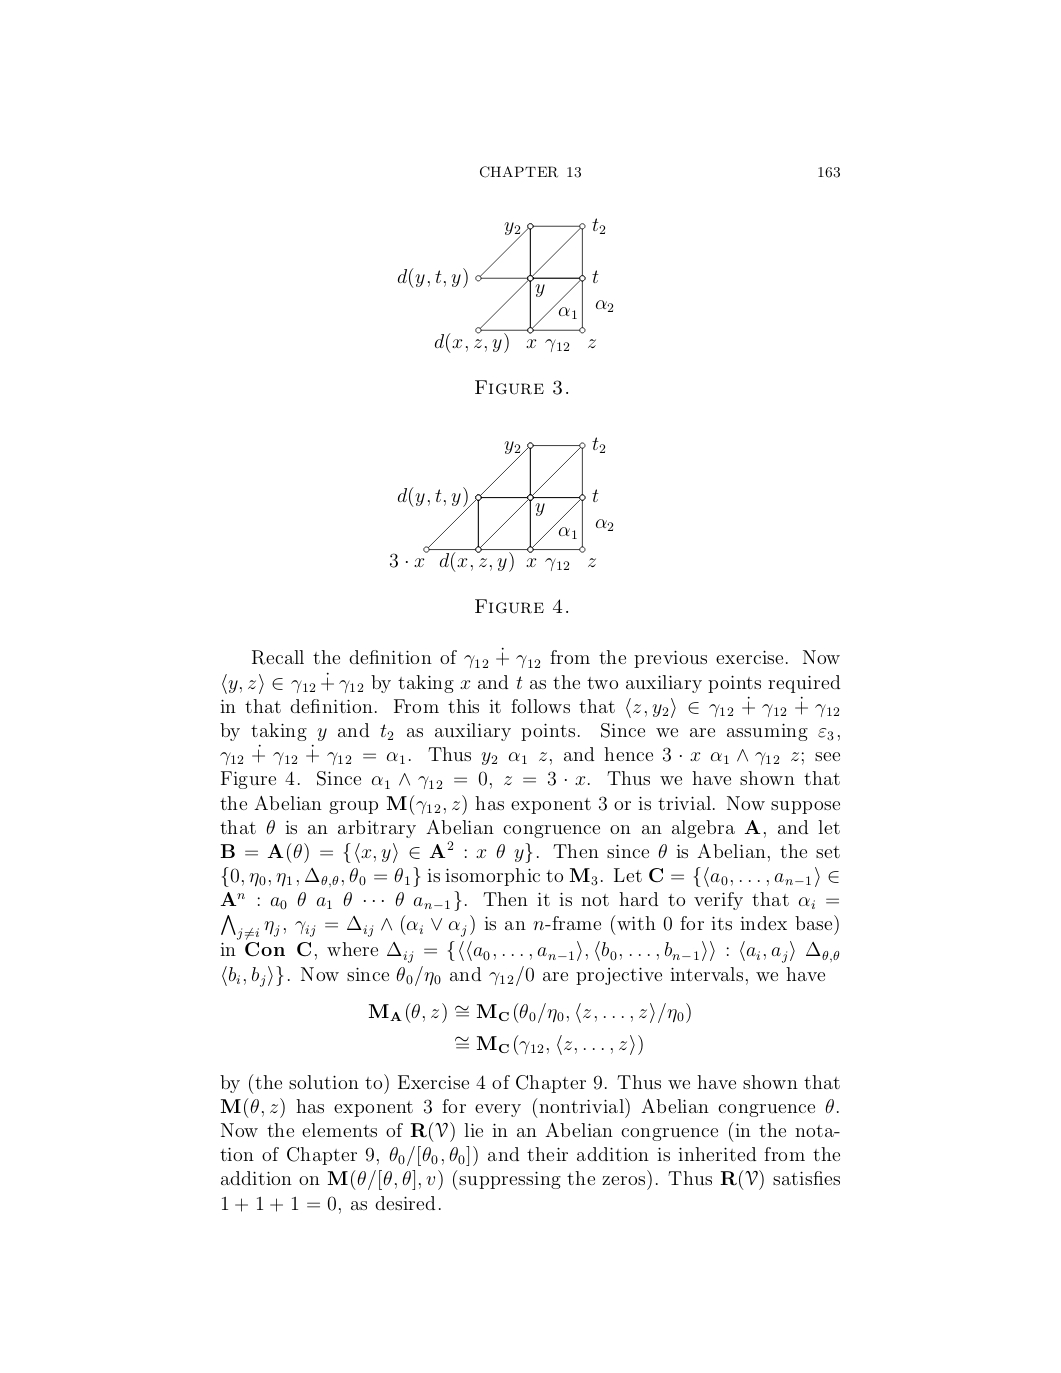figure: (389, 436, 613, 572), (397, 217, 613, 353)
formula: (368, 1002, 690, 1023), (455, 1034, 642, 1055)
